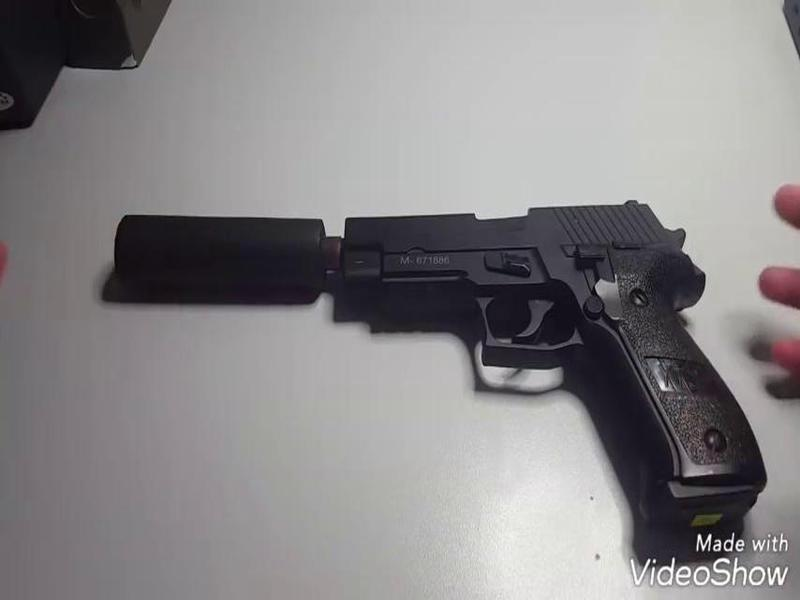Pistola: (120, 168, 787, 496)
